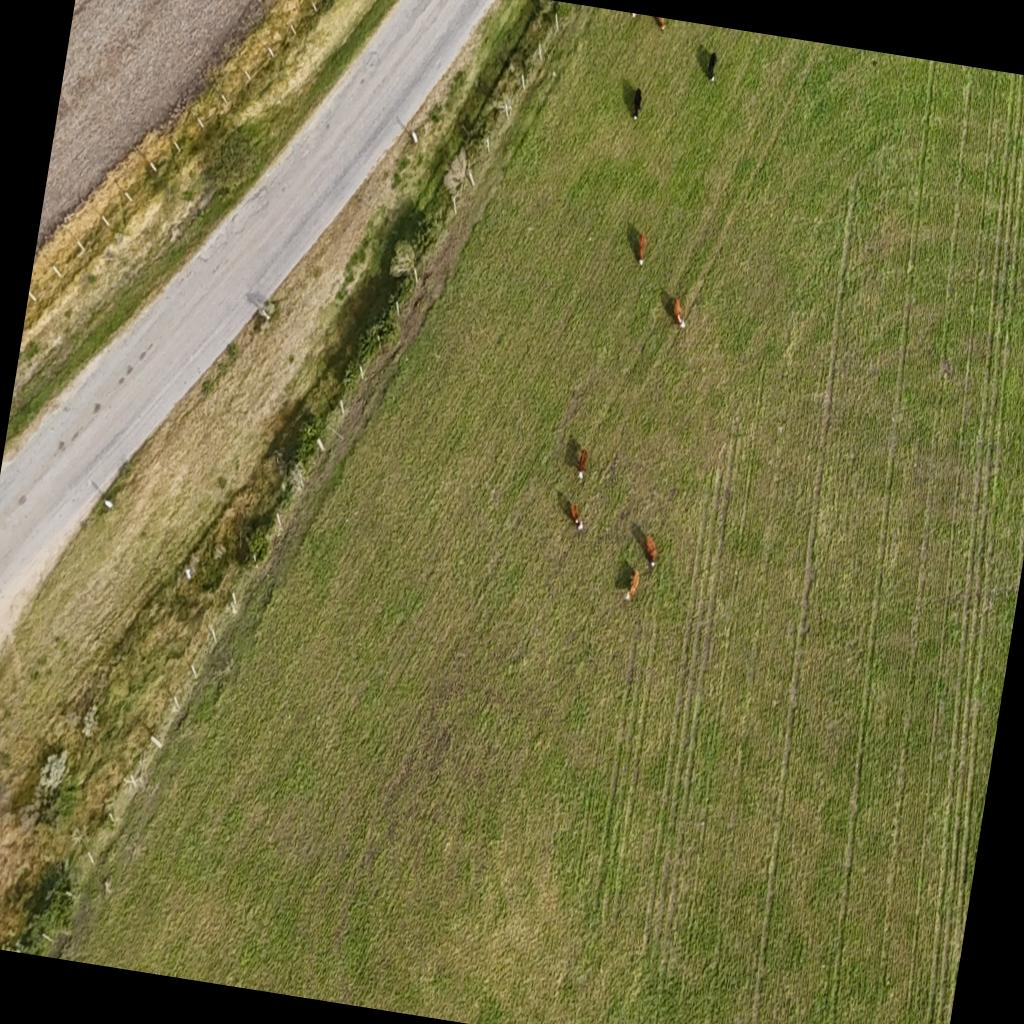cow: (626, 82, 646, 126), (638, 532, 660, 570), (631, 228, 650, 271), (668, 296, 688, 330), (702, 48, 720, 84), (624, 567, 642, 602), (568, 501, 586, 535), (575, 446, 590, 483), (654, 16, 666, 32)
